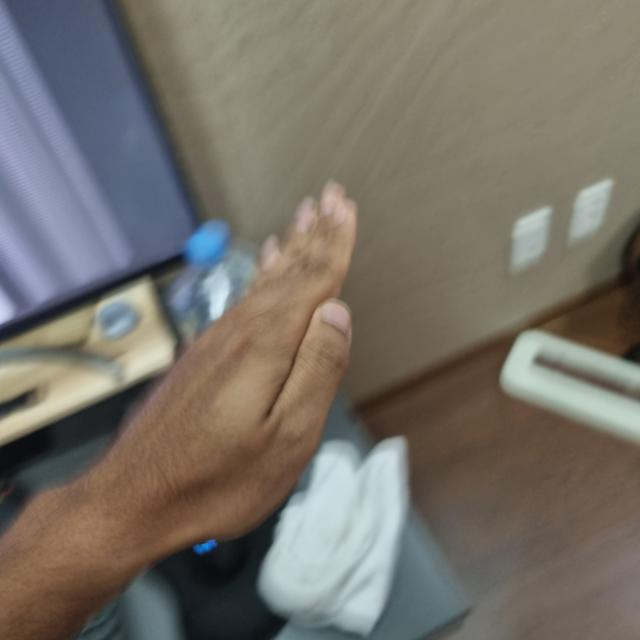Paper: (109, 187, 358, 537)
